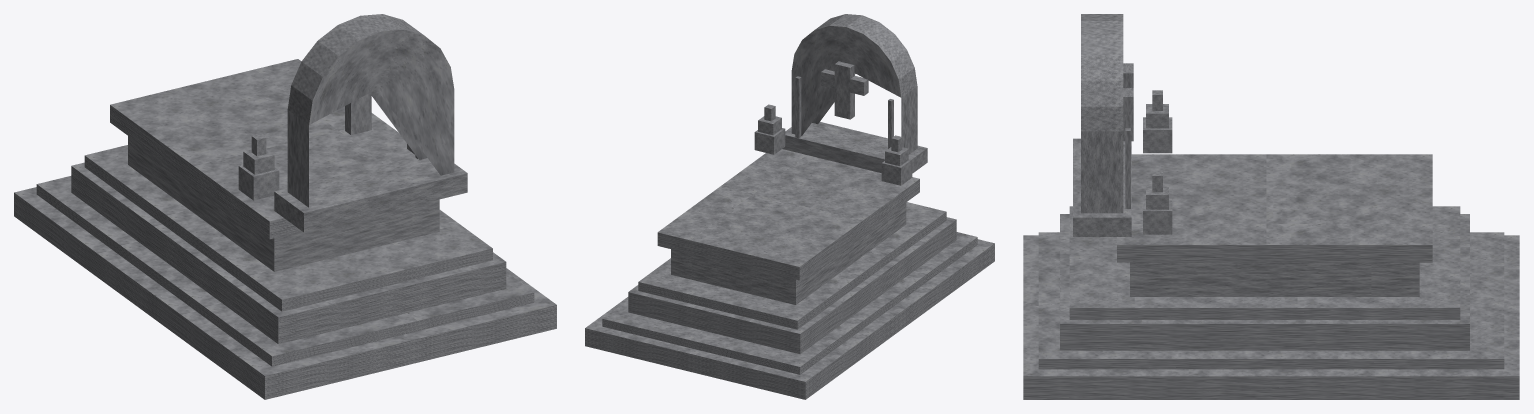
Rendered from TumbaTransparente.obj.
3 views of the same model, side by side, from view 1: azimuth 30°, elevation 25°; view 2: azimuth 150°, elevation 25°; view 3: azimuth 270°, elevation 25° (orthographic). The views are drawn at different scales.
Visible parts, largest first — view 1: TumbaTransparente; view 2: TumbaTransparente; view 3: TumbaTransparente.
Boxes of the visible parts, box(x1,y1,x2,y2) form: TumbaTransparente: box(14, 14, 556, 399); TumbaTransparente: box(585, 14, 994, 399); TumbaTransparente: box(1023, 14, 1519, 399).
Bounding box in the file's own units: 2.05 × 2.09 × 3.05.
Materials: 1 (1 with a texture image).
